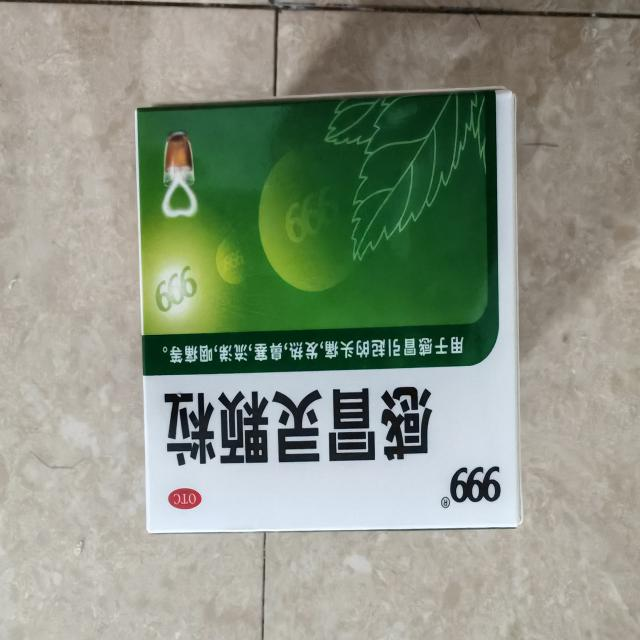box: (123, 79, 531, 551)
